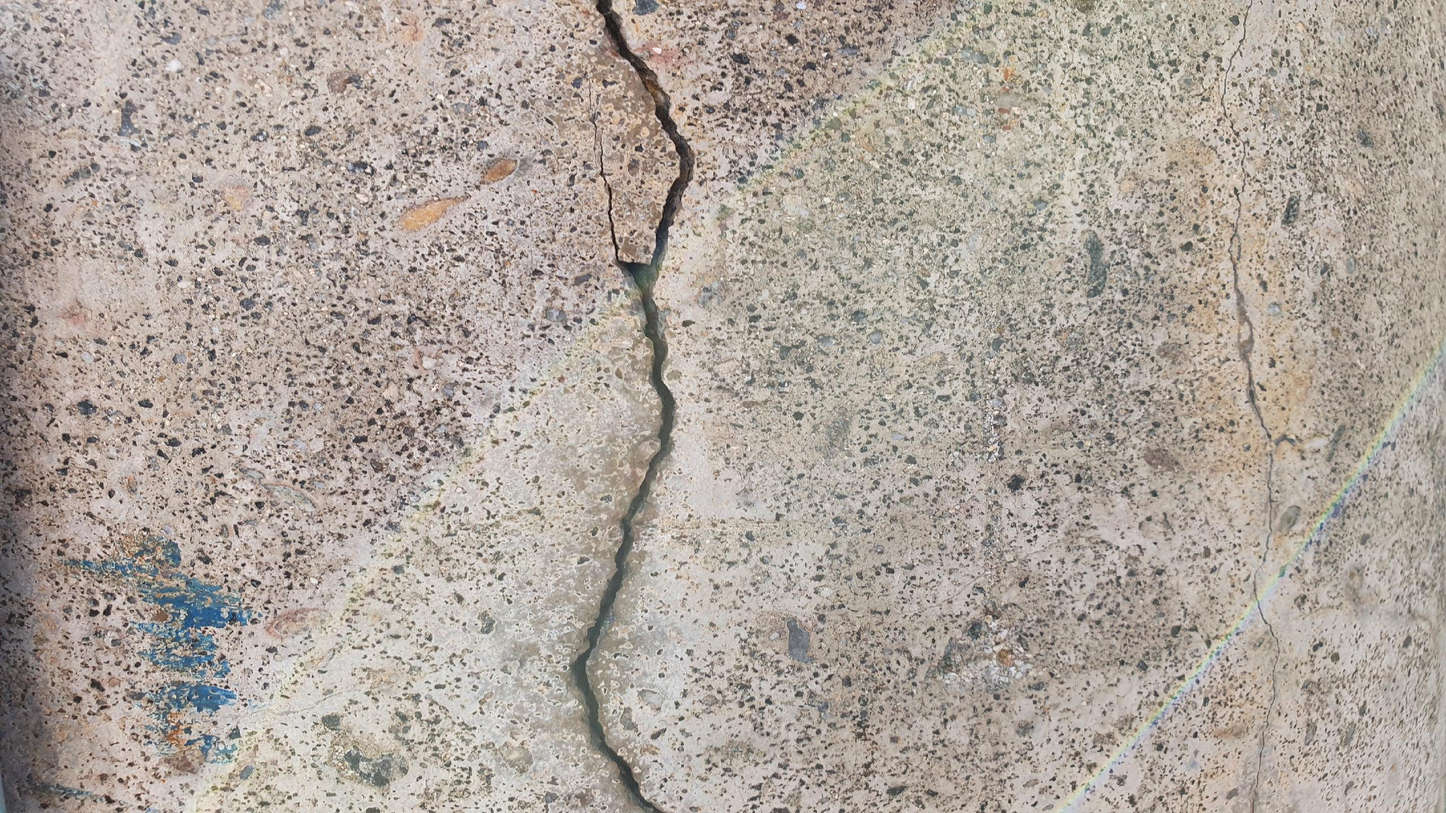crack: (566, 0, 693, 810)
